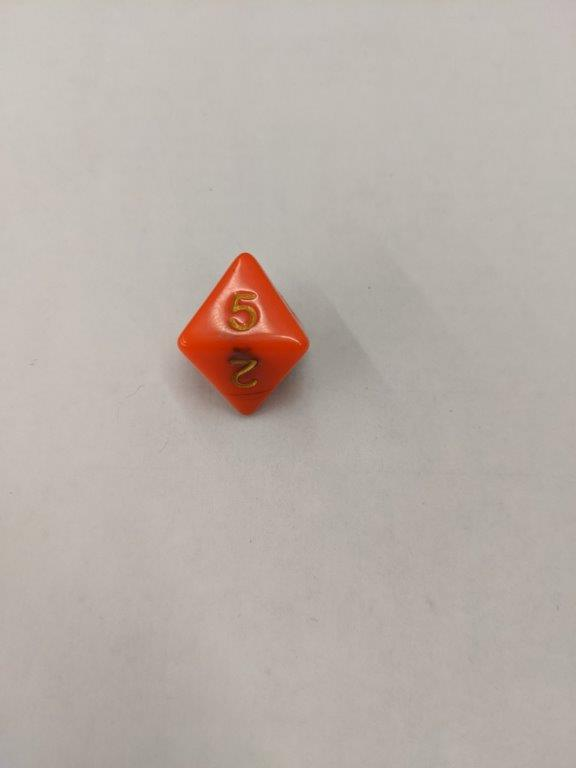d8-5: (177, 250, 312, 421)
